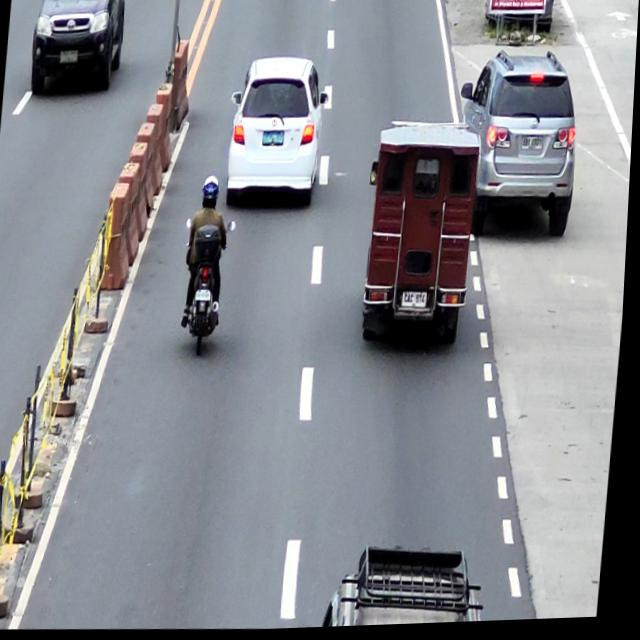Car: (450, 52, 585, 247), (223, 55, 331, 215), (27, 0, 128, 99)
Jeep: (358, 123, 483, 356)
License-Plate: (405, 293, 431, 312), (523, 139, 545, 155), (263, 133, 285, 148), (59, 50, 79, 64), (197, 290, 214, 303)
Motorcycle: (179, 215, 238, 359)
